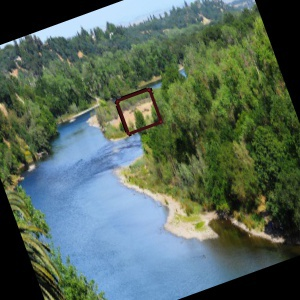square: (111, 85, 165, 137)
